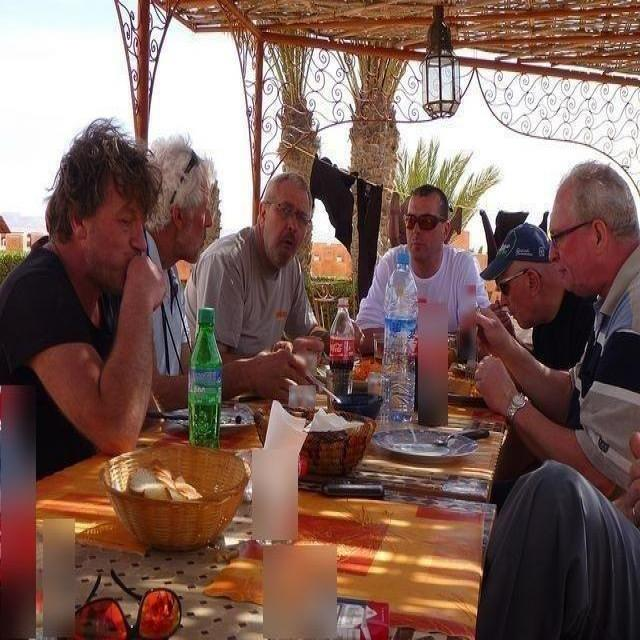bottle-plastic: (380, 253, 419, 420), (187, 304, 223, 448), (326, 298, 357, 398)
